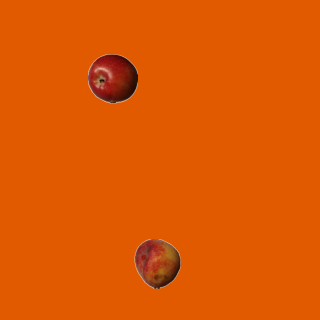Apple Braeburn: (87, 53, 137, 103)
Peach: (132, 238, 182, 288)
